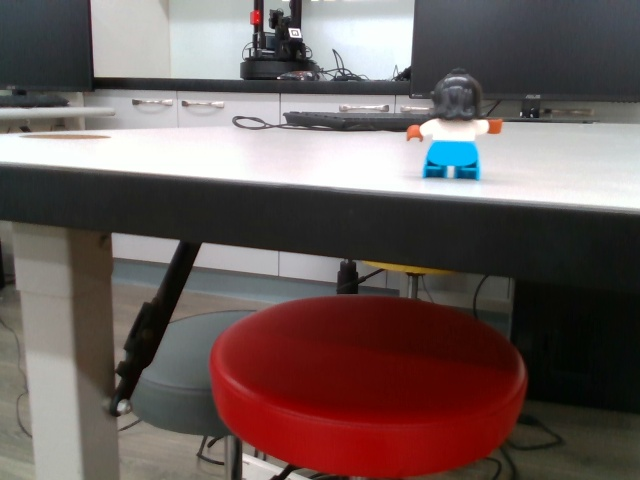people: (403, 71, 506, 185)
